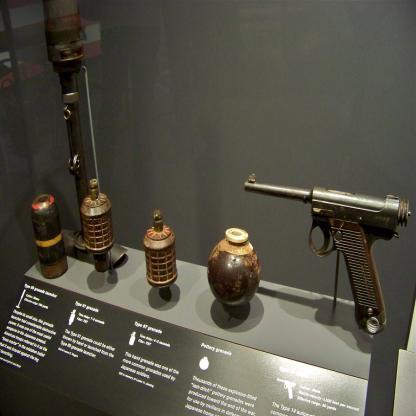Grenade: (201, 222, 260, 311), (143, 208, 179, 289), (80, 178, 114, 251)
Pistol: (243, 171, 412, 334)
